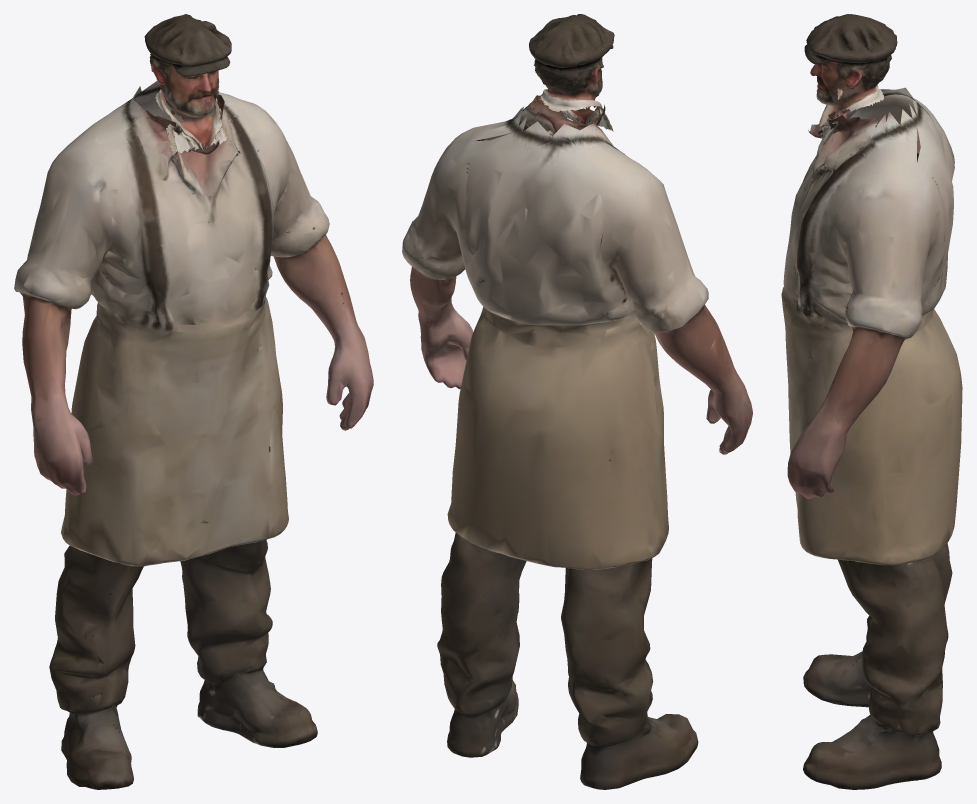
Rendered from miller.glb.
3 views of the same model, side by side, from view 1: azimuth 30°, elevation 25°; view 2: azimuth 150°, elevation 25°; view 3: azimuth 270°, elevation 25° (orthographic). The views are drawn at different scales.
Parts seen in each view (by area): view 1: miller.raw; view 2: miller.raw; view 3: miller.raw.
Boxes of the visible parts, x1,y1,x2,y2 form: miller.raw: [14, 14, 373, 789]; miller.raw: [402, 14, 752, 789]; miller.raw: [781, 14, 962, 789].
Size of the model in its own units: 0.848 by 1.8 by 0.4096.
1 material, 1 textured.
